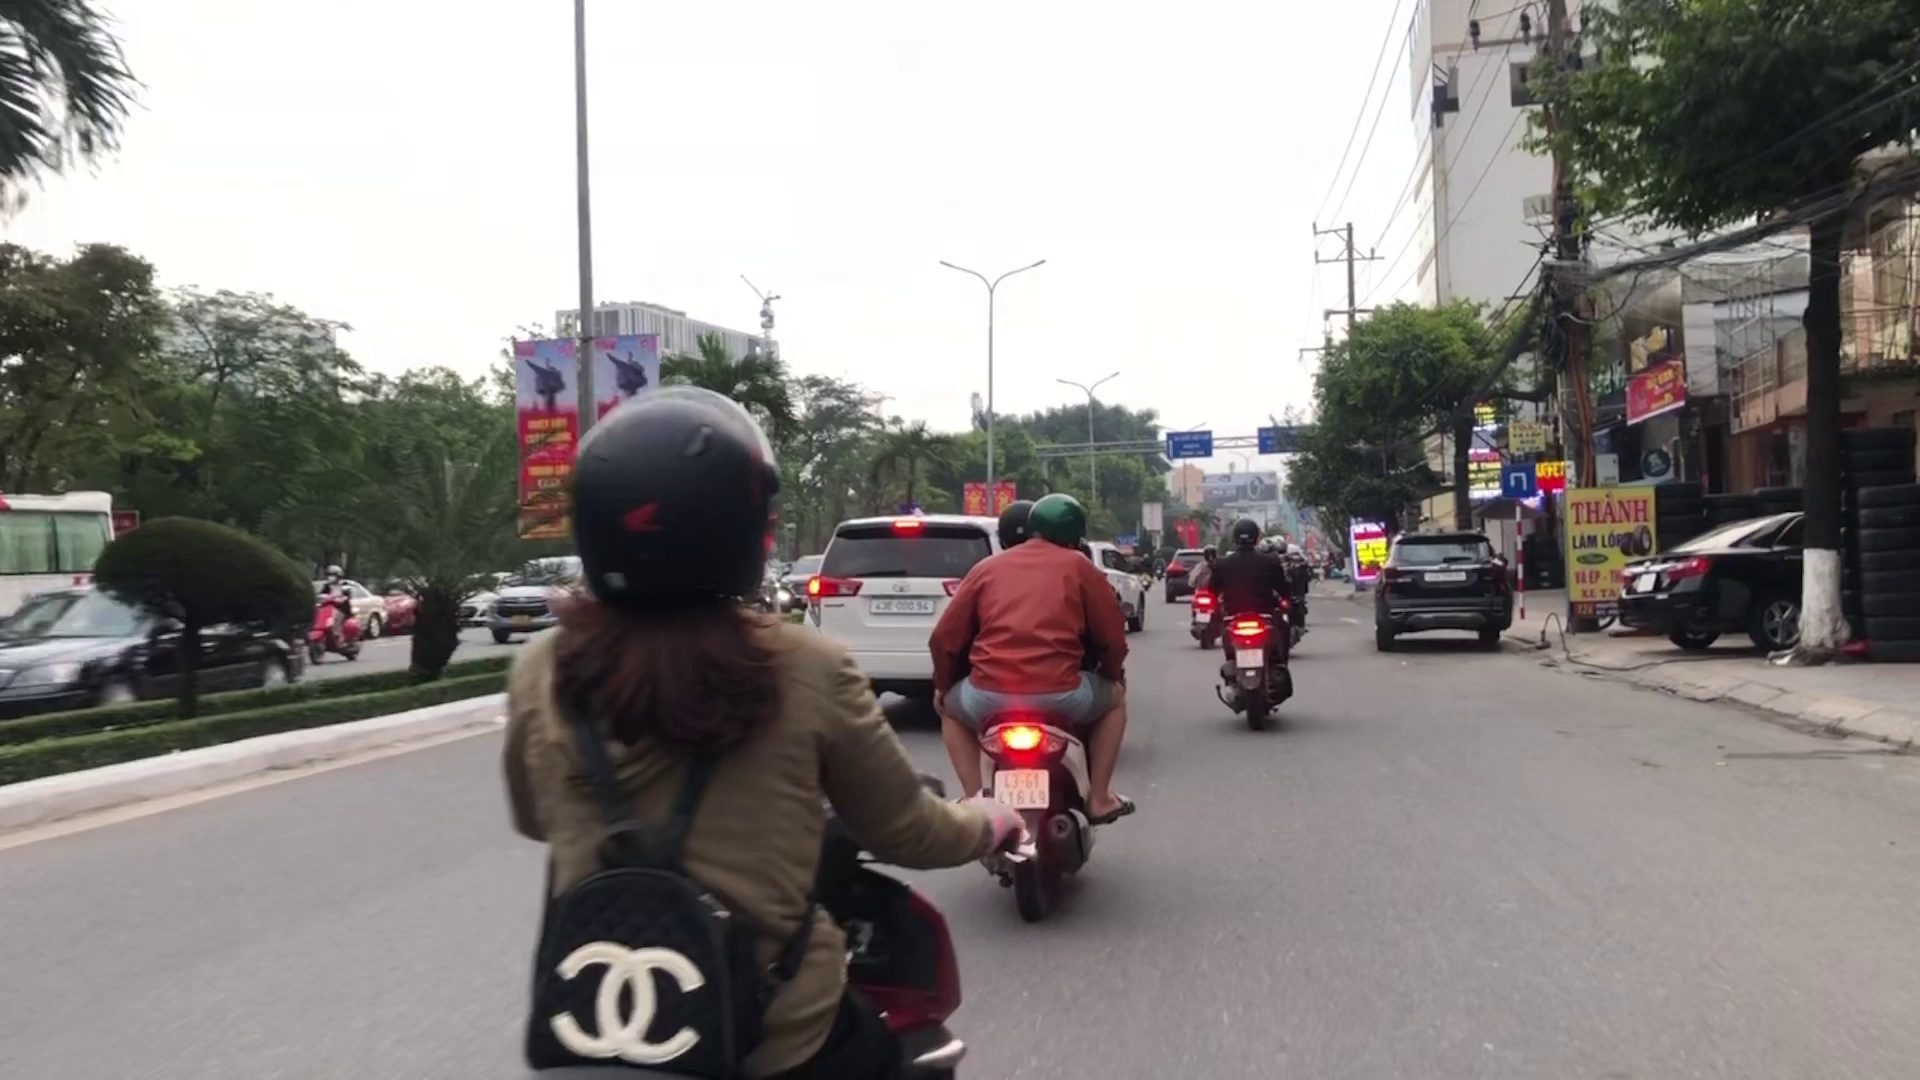Bien khac: (1503, 458, 1538, 501)
